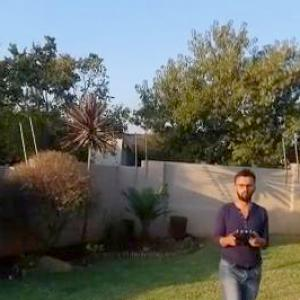follow: (210, 162, 272, 299)
